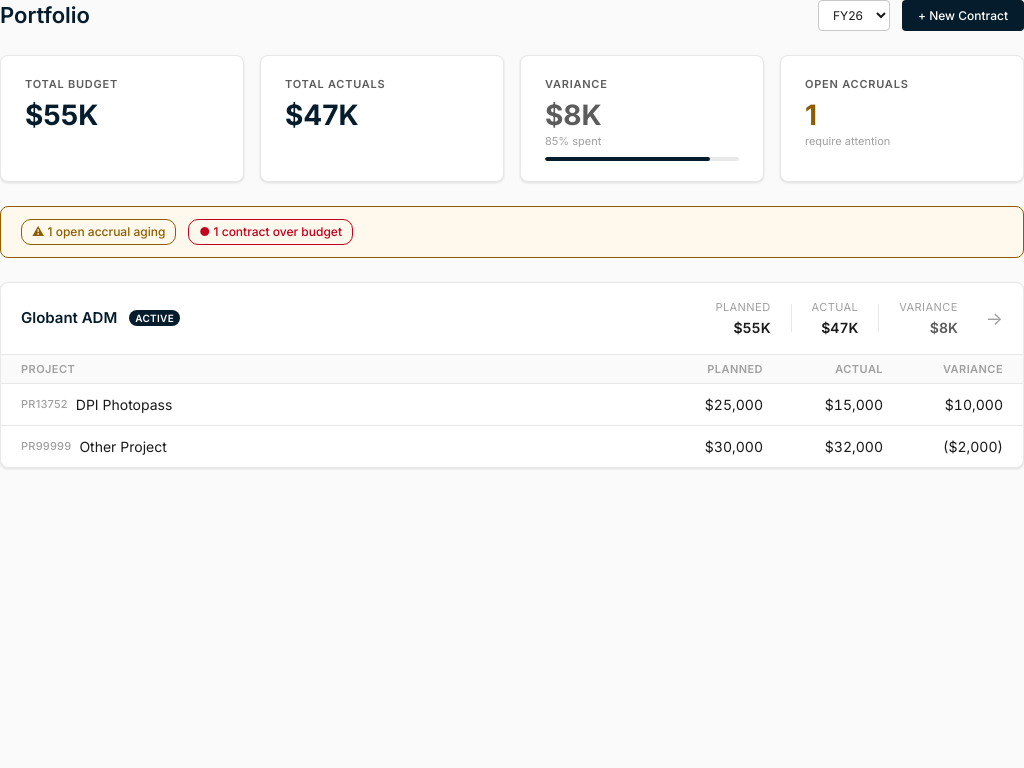
Test: Dashboard › submitting New Contract without Name shows an error
Expected: the text "Globant ADM" is shown, x1=21 y1=307 x2=117 y2=330
Click the button "+ New Contract" at x=963, y=16, box x1=902 y1=0 x2=1023 y2=31
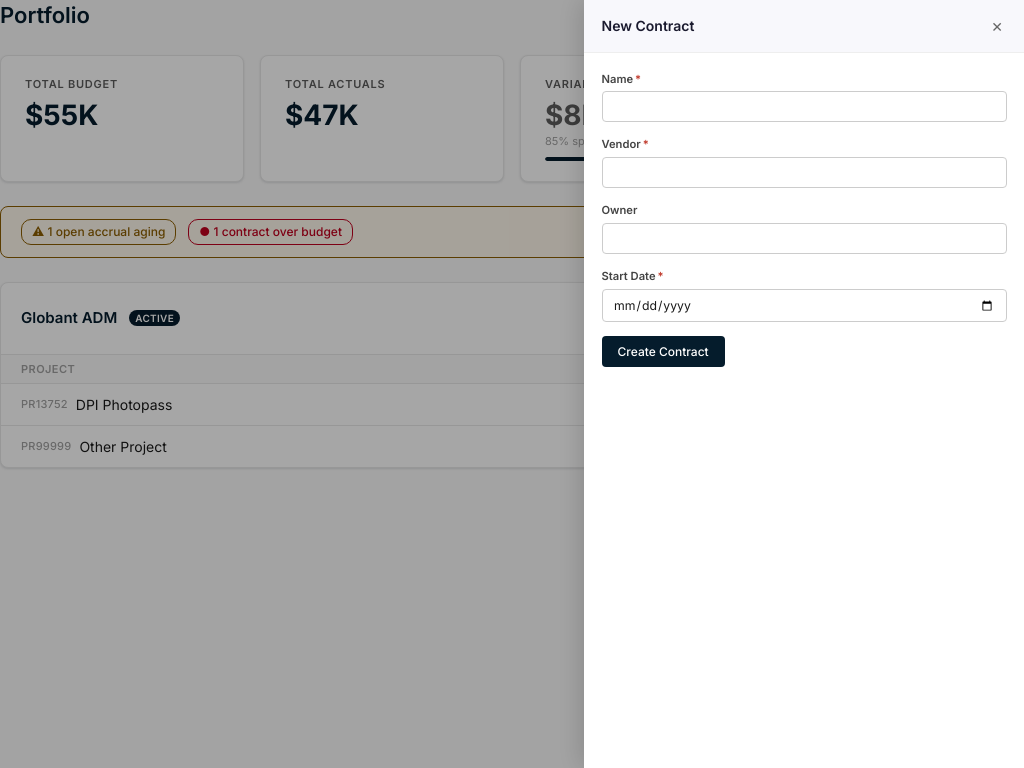
Click the button "Create Contract" at x=663, y=352, box x1=602 y1=336 x2=725 y2=367
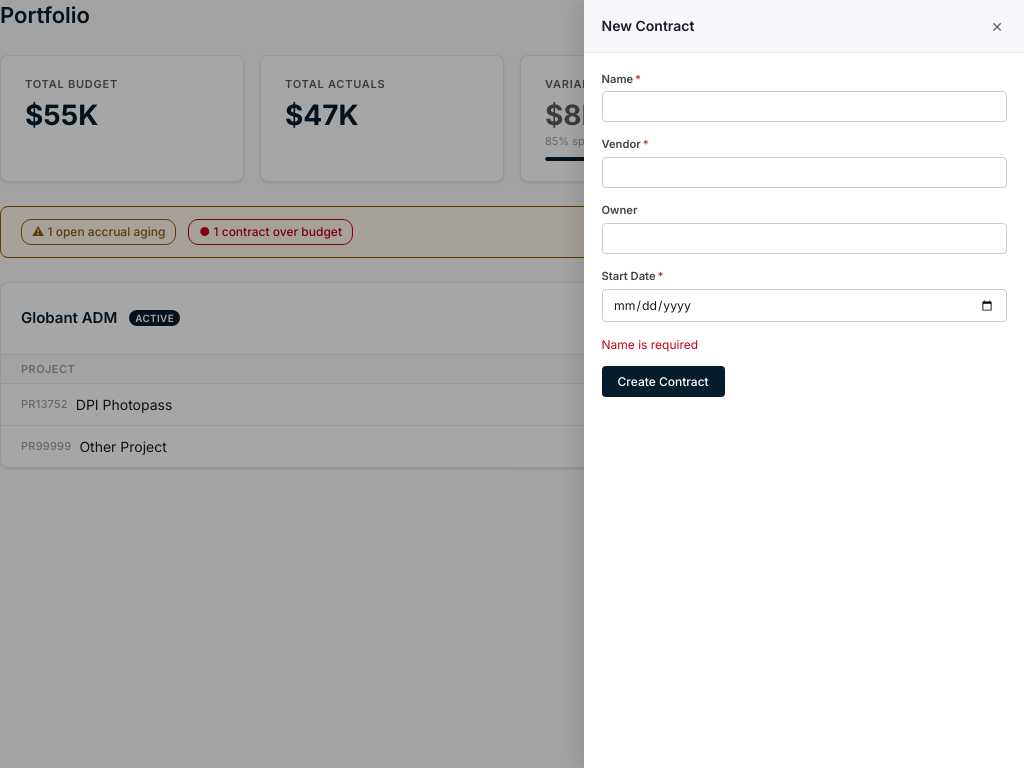
Now the text "Name is required" is shown, box x1=602 y1=337 x2=698 y2=352
